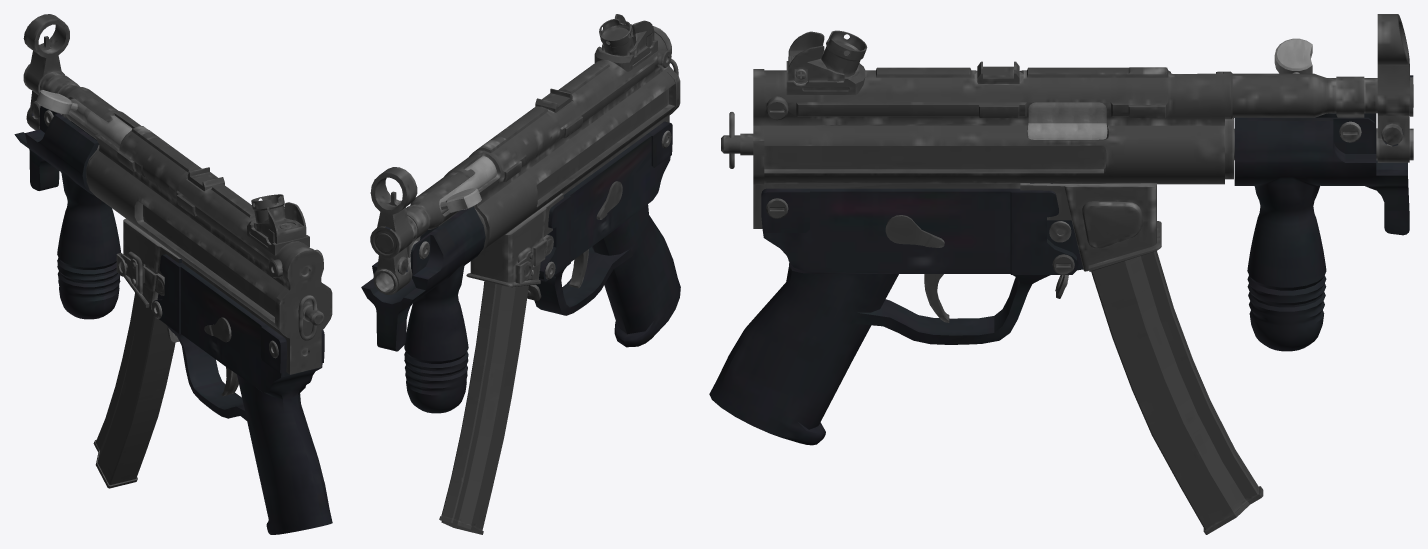
Rendered from mp5k-NVZ3Q3G7.glb.
The picture shows the model from 3 angles, left to right: view 1: azimuth 30°, elevation 25°; view 2: azimuth 150°, elevation 25°; view 3: azimuth 270°, elevation 25°; orthographic projection. The views are drawn at different scales.
Visible parts, largest first — view 1: body, mag; view 2: body, mag; view 3: body, mag.
Boxes of the visible parts, x1,y1,x2,y2 form: body: (14,14,332,534); mag: (93,293,175,488); body: (361,14,680,413); mag: (439,281,528,534); body: (709,14,1413,445); mag: (1091,250,1263,534).
Bounding box in the file's own units: 0.0488 × 0.2596 × 0.325.
5 materials, 5 textured.
